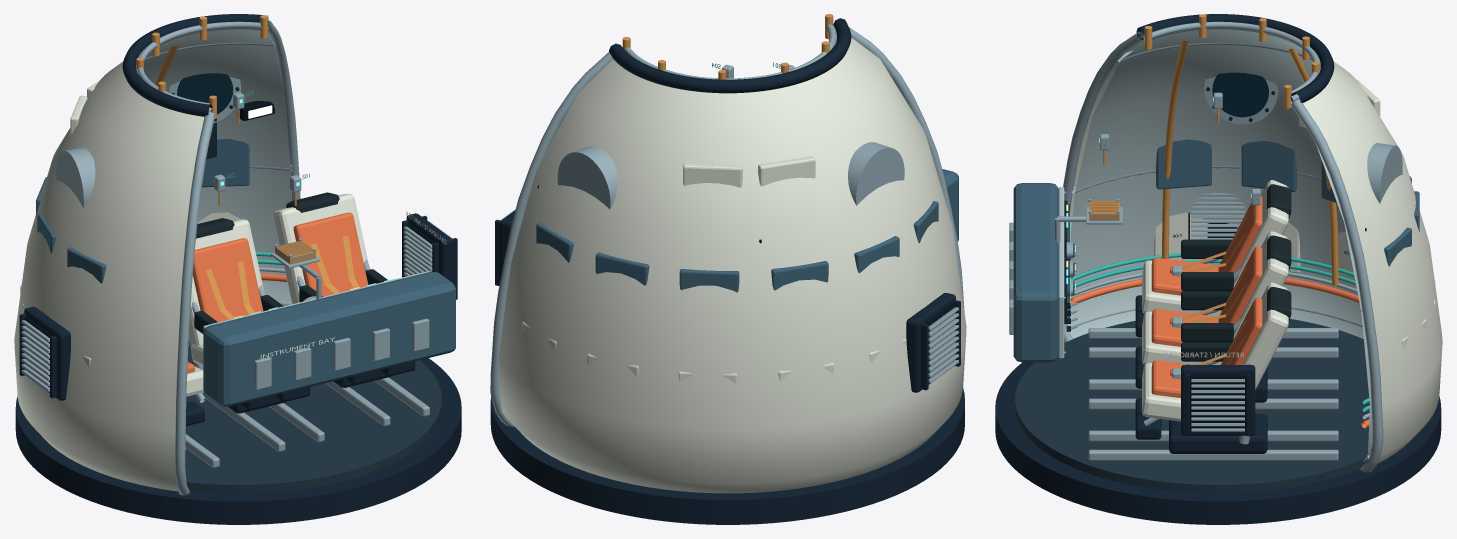
Rendered from soyuz.glb.
The picture shows the model from 3 angles, left to right: view 1: azimuth 30°, elevation 25°; view 2: azimuth 150°, elevation 25°; view 3: azimuth 270°, elevation 25°; orthographic projection. The views are drawn at different scales.
Parts seen in each view (by area): view 1: exterior_pressure_shell, equipment_deck, capsule_instrument_housing, heatshield_rim, interior_liner, pressure_shell_cut_edge.001, seat_back_cushion.001, seat_back_cushion.002, crown_access_ring, seat_moulded_back.002, quilted_liner_panel.001, porthole_outer_frame.001 (+19 smaller); view 2: exterior_pressure_shell, heatshield_rim, crown_access_ring, pressure_shell_cut_edge, porthole_outer_frame, porthole_outer_frame.001, pressure_shell_cut_edge.001, vent_frame, quilted_liner_panel.006, quilted_liner_panel.009, quilted_liner_panel.005, quilted_liner_panel.008 (+5 smaller); view 3: interior_liner, equipment_deck, exterior_pressure_shell, heatshield_rim, capsule_instrument_housing, pressure_shell_cut_edge, seat_deck_rail.005, crown_access_ring, quilted_liner_panel.011, quilted_liner_panel.013, seat_energy_absorber.002, pressure_shell_cut_edge.001 (+42 smaller).
Boxes of the visible parts, left/top/right/bottom form: exterior_pressure_shell: left=14, top=27, right=269, bottom=491; equipment_deck: left=185, top=339, right=441, bottom=493; capsule_instrument_housing: left=203, top=272, right=455, bottom=406; heatshield_rim: left=15, top=358, right=461, bottom=524; interior_liner: left=144, top=29, right=292, bottom=305; pressure_shell_cut_edge.001: left=175, top=111, right=215, bottom=495; seat_back_cushion.001: left=192, top=238, right=263, bottom=322; seat_back_cushion.002: left=293, top=212, right=368, bottom=296; crown_access_ring: left=122, top=14, right=268, bottom=116; seat_moulded_back.002: left=273, top=193, right=369, bottom=303; quilted_liner_panel.001: left=202, top=138, right=249, bottom=187; porthole_outer_frame.001: left=56, top=147, right=95, bottom=208; exterior_pressure_shell: left=499, top=37, right=966, bottom=493; heatshield_rim: left=490, top=388, right=964, bottom=524; crown_access_ring: left=609, top=18, right=851, bottom=93; pressure_shell_cut_edge: left=490, top=52, right=612, bottom=426; porthole_outer_frame: left=557, top=146, right=617, bottom=209; porthole_outer_frame.001: left=848, top=142, right=904, bottom=205; pressure_shell_cut_edge.001: left=849, top=27, right=964, bottom=311; vent_frame: left=906, top=293, right=955, bottom=392; quilted_liner_panel.006: left=683, top=163, right=742, bottom=187; quilted_liner_panel.009: left=758, top=156, right=815, bottom=186; quilted_liner_panel.005: left=679, top=269, right=739, bottom=292; quilted_liner_panel.008: left=771, top=261, right=828, bottom=290; interior_liner: left=1067, top=29, right=1372, bottom=461; equipment_deck: left=1015, top=319, right=1369, bottom=493; exterior_pressure_shell: left=1067, top=35, right=1442, bottom=463; heatshield_rim: left=995, top=362, right=1441, bottom=524; capsule_instrument_housing: left=1013, top=183, right=1058, bottom=362; pressure_shell_cut_edge: left=1291, top=99, right=1383, bottom=472; seat_deck_rail.005: left=1088, top=449, right=1338, bottom=460; crown_access_ring: left=1136, top=14, right=1334, bottom=102; quilted_liner_panel.011: left=1241, top=140, right=1296, bottom=191; quilted_liner_panel.013: left=1156, top=139, right=1211, bottom=189; seat_energy_absorber.002: left=1169, top=414, right=1267, bottom=453; pressure_shell_cut_edge.001: left=1063, top=32, right=1144, bottom=342.
Size of the model in its own units: 3.11 by 2.72 by 2.95.
